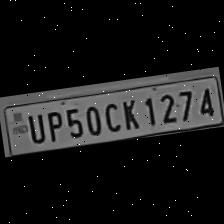0: (80, 102, 104, 138)
1: (136, 94, 158, 128)
2: (154, 90, 180, 126)
4: (192, 84, 217, 119)
5: (60, 104, 85, 140)
7: (172, 86, 195, 122)
C: (99, 98, 122, 134)
K: (117, 96, 142, 132)
P: (42, 107, 65, 144)
U: (22, 110, 46, 146)
